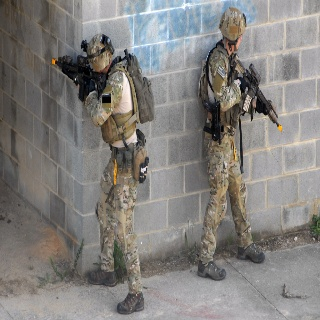rifle: (228, 52, 284, 133), (50, 52, 107, 104)
